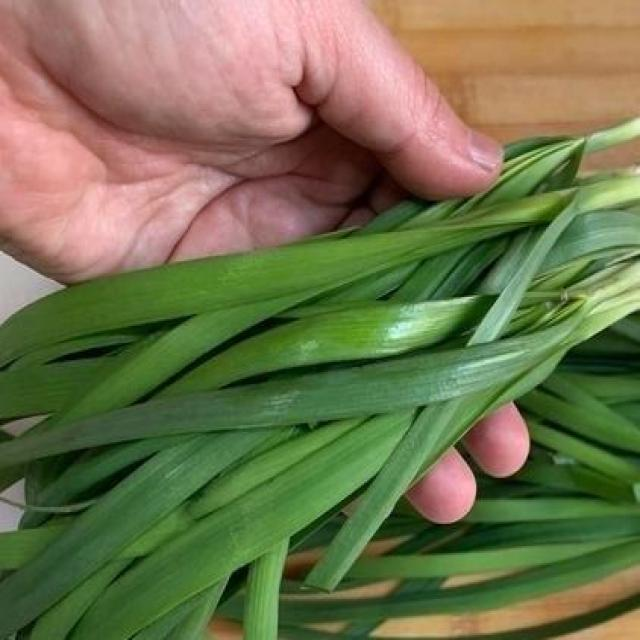-Kitchen waste - vegetable roots and leaves-: (0, 258, 637, 442), (0, 170, 637, 352)
